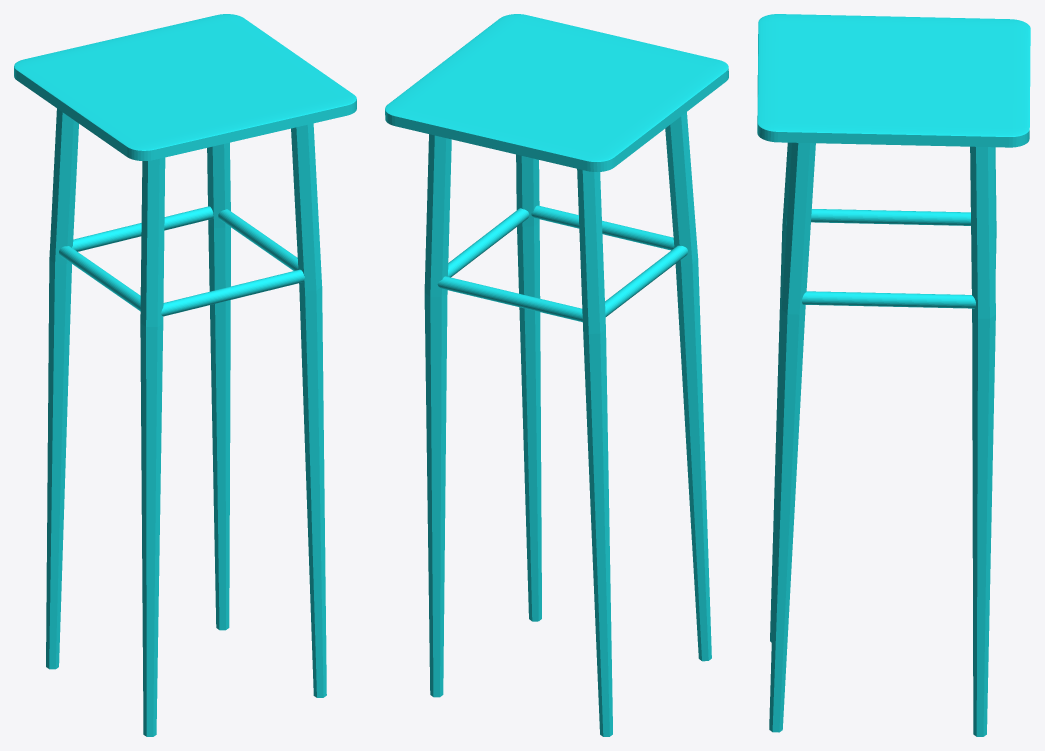
The model's file is table.glb.
The picture shows the model from 3 angles, left to right: view 1: azimuth 30°, elevation 25°; view 2: azimuth 150°, elevation 25°; view 3: azimuth 270°, elevation 25°; orthographic projection. The views are drawn at different scales.
Visible parts, largest first — view 1: table top_9, leg_2, leg_4, leg_1, leg_3, strecher_7, strecher_5, strecher_6, strecher_8; view 2: table top_9, leg_1, leg_3, leg_2, leg_4, strecher_5, strecher_7, strecher_6, strecher_8; view 3: table top_9, leg_4, leg_3, strecher_8, strecher_6, leg_2.
Part boxes in pixels (<box>): table top_9: <box>14,14,356,160</box>; leg_2: <box>140,157,165,736</box>; leg_4: <box>291,123,326,697</box>; leg_1: <box>46,108,78,669</box>; leg_3: <box>207,142,230,630</box>; strecher_7: <box>161,269,304,316</box>; strecher_5: <box>72,206,213,251</box>; strecher_6: <box>59,246,140,311</box>; strecher_8: <box>218,209,298,270</box>; table top_9: <box>385,14,728,172</box>; leg_1: <box>577,169,612,736</box>; leg_3: <box>424,134,451,697</box>; leg_2: <box>665,112,711,661</box>; leg_4: <box>516,154,541,621</box>; strecher_5: <box>437,276,582,321</box>; strecher_7: <box>531,205,674,250</box>; strecher_6: <box>605,245,687,316</box>; strecher_8: <box>448,208,529,277</box>; table top_9: <box>757,14,1030,147</box>; leg_4: <box>769,142,815,732</box>; leg_3: <box>970,146,995,736</box>; strecher_8: <box>802,291,975,308</box>; strecher_6: <box>811,209,970,225</box>; leg_2: <box>770,142,791,642</box>.
Bounding box in the file's own units: 0.4013 × 1.01 × 0.4015.
